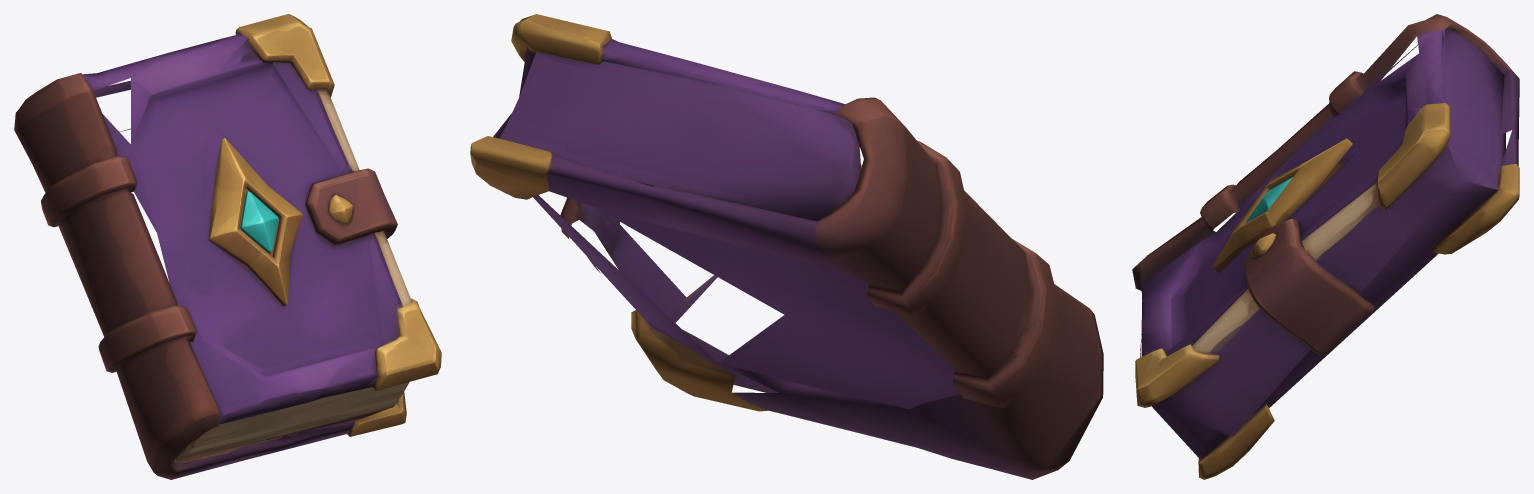
The model's file is elf-wizard-spellbook-v1.glb.
3 views of the same model, side by side, from view 1: azimuth 30°, elevation 25°; view 2: azimuth 150°, elevation 25°; view 3: azimuth 270°, elevation 25° (orthographic). The views are drawn at different scales.
Parts seen in each view (by area): view 1: d31c9e22_fe63_48c6_9d49_7f177d6d6466; view 2: d31c9e22_fe63_48c6_9d49_7f177d6d6466; view 3: d31c9e22_fe63_48c6_9d49_7f177d6d6466.
Boxes of the visible parts, box(x1,y1,x2,y2) form: d31c9e22_fe63_48c6_9d49_7f177d6d6466: box(14, 14, 441, 479); d31c9e22_fe63_48c6_9d49_7f177d6d6466: box(470, 14, 1103, 479); d31c9e22_fe63_48c6_9d49_7f177d6d6466: box(1132, 14, 1519, 479).
Bounding box in the file's own units: 0.9067 × 0.9995 × 0.9858.
1 material, 1 textured.
